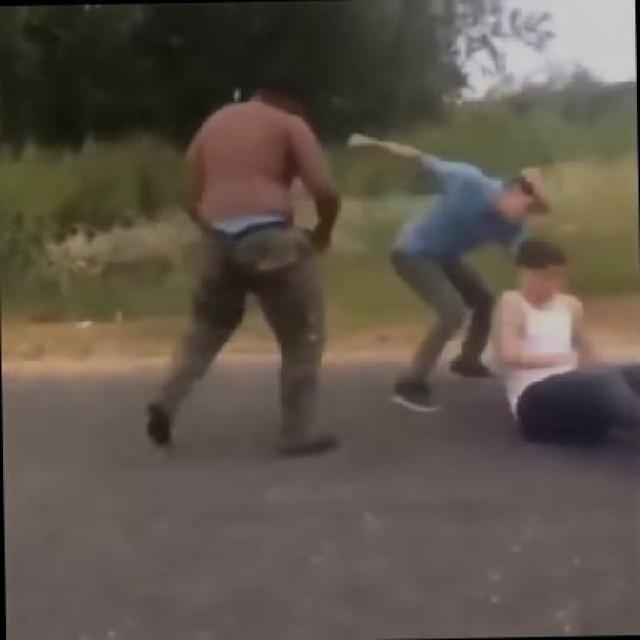fight: (350, 132, 638, 448)
non-fight: (147, 65, 341, 456)
